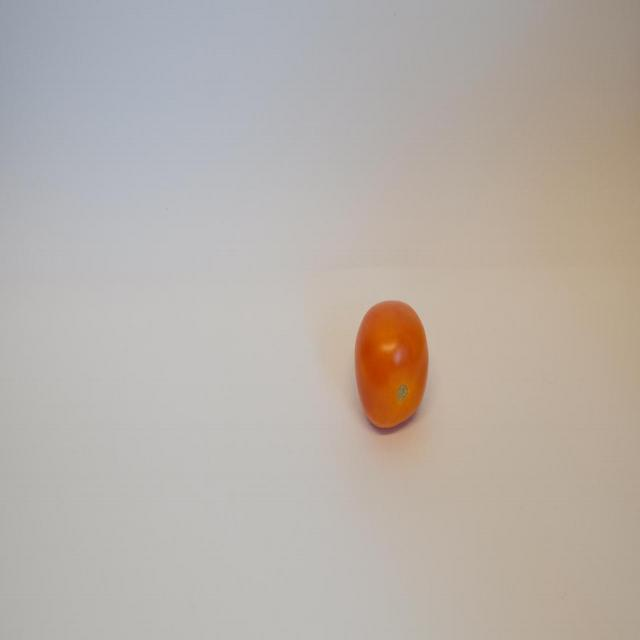tomato: (358, 292, 430, 436)
